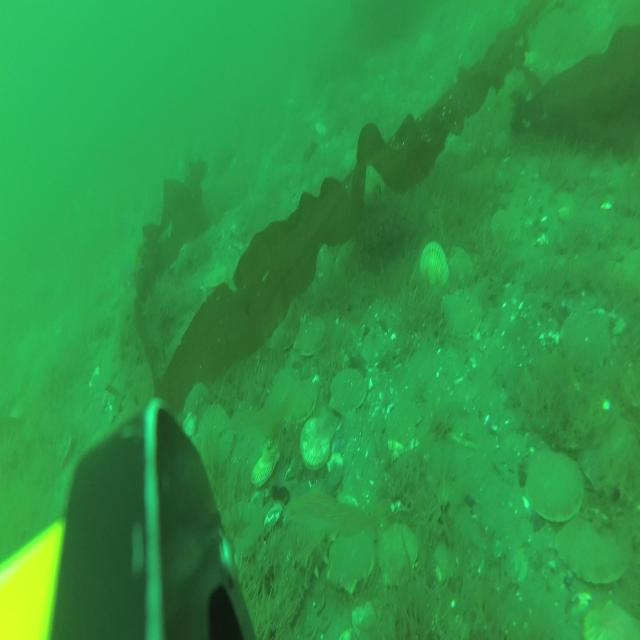scallop: (558, 511, 627, 593), (525, 448, 581, 524), (562, 303, 607, 378), (332, 530, 378, 593), (380, 523, 414, 591), (199, 407, 235, 469), (226, 500, 262, 558), (328, 367, 366, 420), (302, 416, 334, 473), (444, 287, 480, 336), (285, 375, 317, 429), (360, 324, 390, 372), (491, 203, 521, 250), (420, 243, 450, 286), (296, 315, 324, 360), (252, 440, 278, 487), (447, 244, 473, 288)
